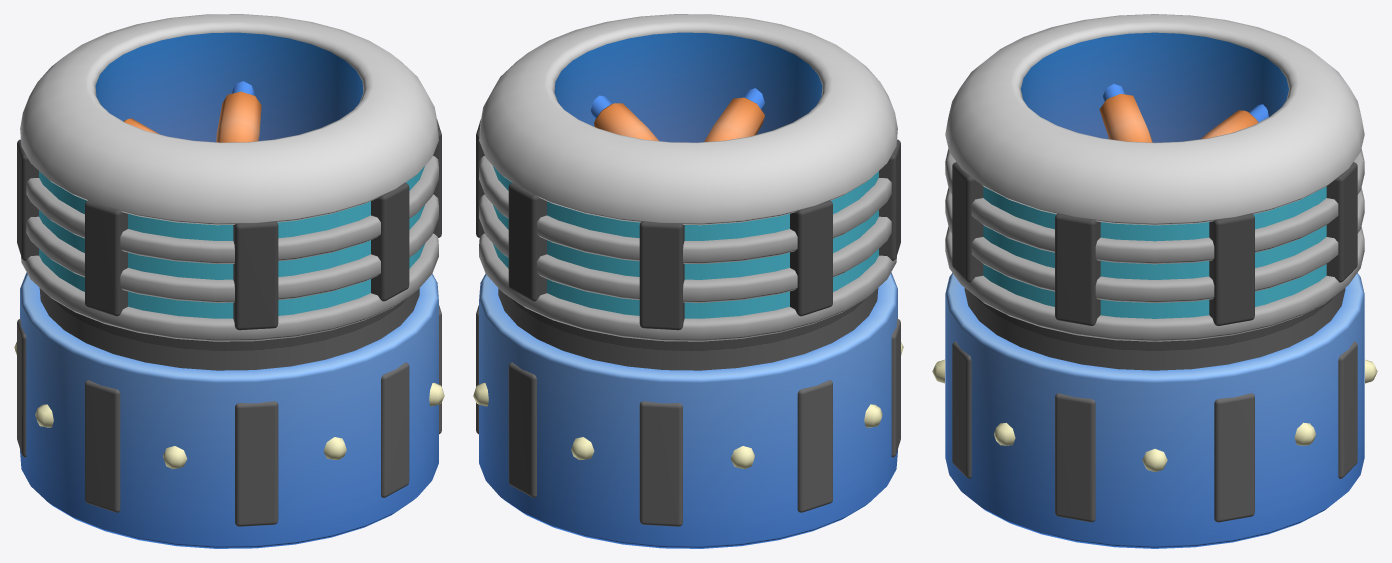
File: engine_001.fbx
3 renders of one model, left to right at view 1: azimuth 30°, elevation 25°; view 2: azimuth 150°, elevation 25°; view 3: azimuth 270°, elevation 25°, orthographic.
Visible parts, largest first — view 1: engine_001; view 2: engine_001; view 3: engine_001.
Boxes of the visible parts, box(x1,y1,x2,y2) form: engine_001: box(14, 14, 444, 548); engine_001: box(473, 14, 903, 548); engine_001: box(932, 14, 1377, 548).
Size of the model in its own units: 3372 by 3372 by 3176.
